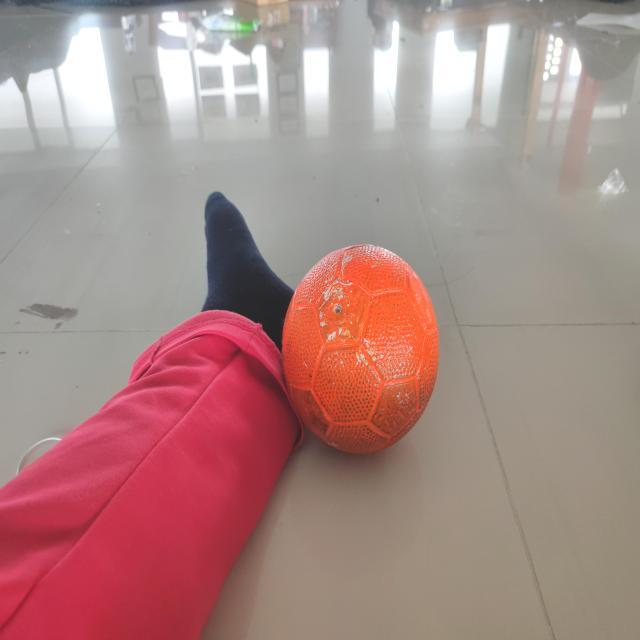bola: (271, 222, 447, 483)
